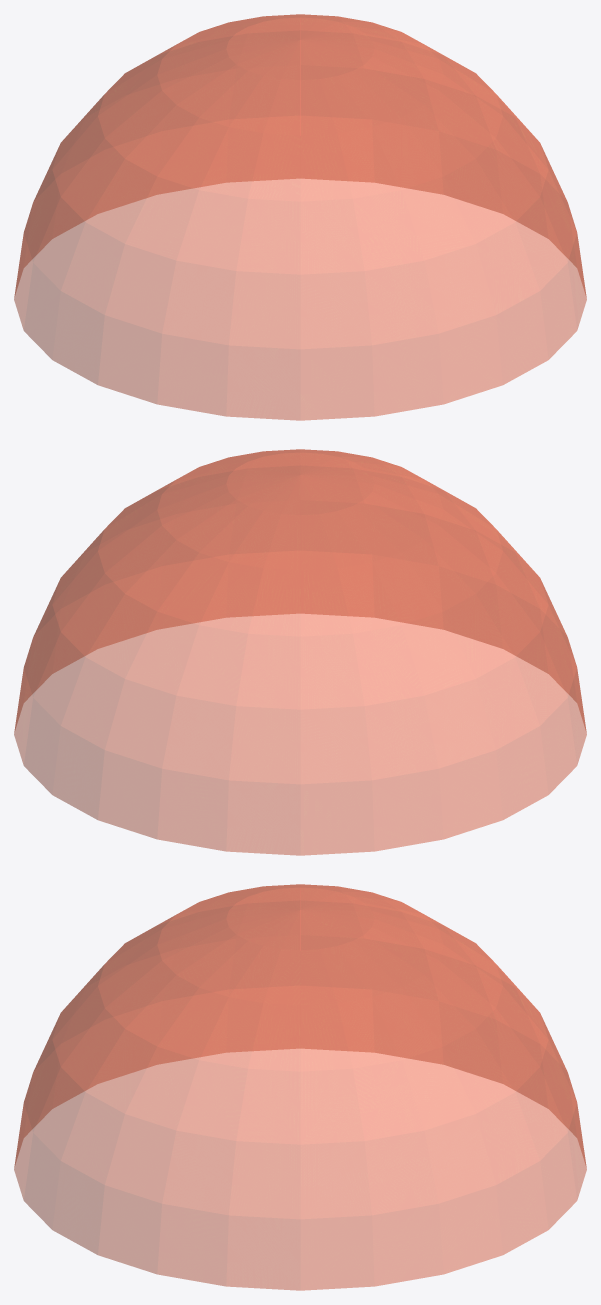
Rendered from orange_25_opacity_dome.dae.
3 views of the same model, one above another, from view 1: azimuth 30°, elevation 25°; view 2: azimuth 150°, elevation 25°; view 3: azimuth 270°, elevation 25° (orthographic).
Visible parts, largest first — view 1: Component1; view 2: Component1; view 3: Component1.
Part boxes in pixels (box(x1,y1,x2,y2)): Component1: box(14, 14, 586, 420); Component1: box(14, 449, 586, 855); Component1: box(14, 884, 586, 1290).
Bounding box in the file's own units: 245371 × 245371 × 132150.
